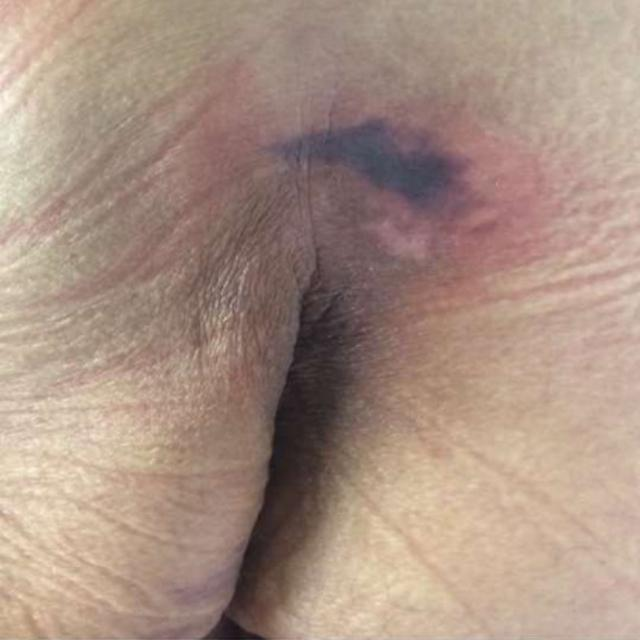DTI: (267, 115, 470, 202)
